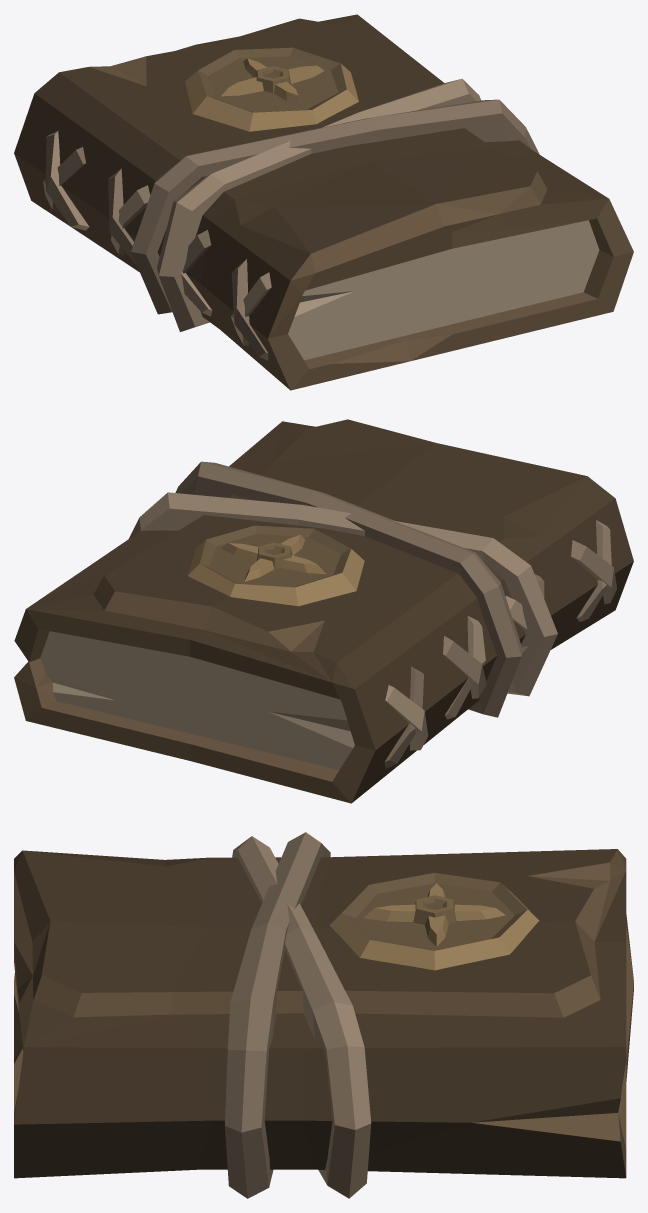
Rendered from SM_Prop_Book_01.fbx.
3 views of the same model, one above another, from view 1: azimuth 30°, elevation 25°; view 2: azimuth 150°, elevation 25°; view 3: azimuth 270°, elevation 25° (orthographic). The views are drawn at different scales.
Visible parts, largest first — view 1: SM_Prop_Book_01; view 2: SM_Prop_Book_01; view 3: SM_Prop_Book_01.
Boxes of the visible parts, box(x1,y1,x2,y2) form: SM_Prop_Book_01: box(14, 14, 633, 390); SM_Prop_Book_01: box(14, 419, 633, 803); SM_Prop_Book_01: box(14, 832, 633, 1198).
Bounding box in the file's own units: 30.8 × 12.23 × 35.07.
